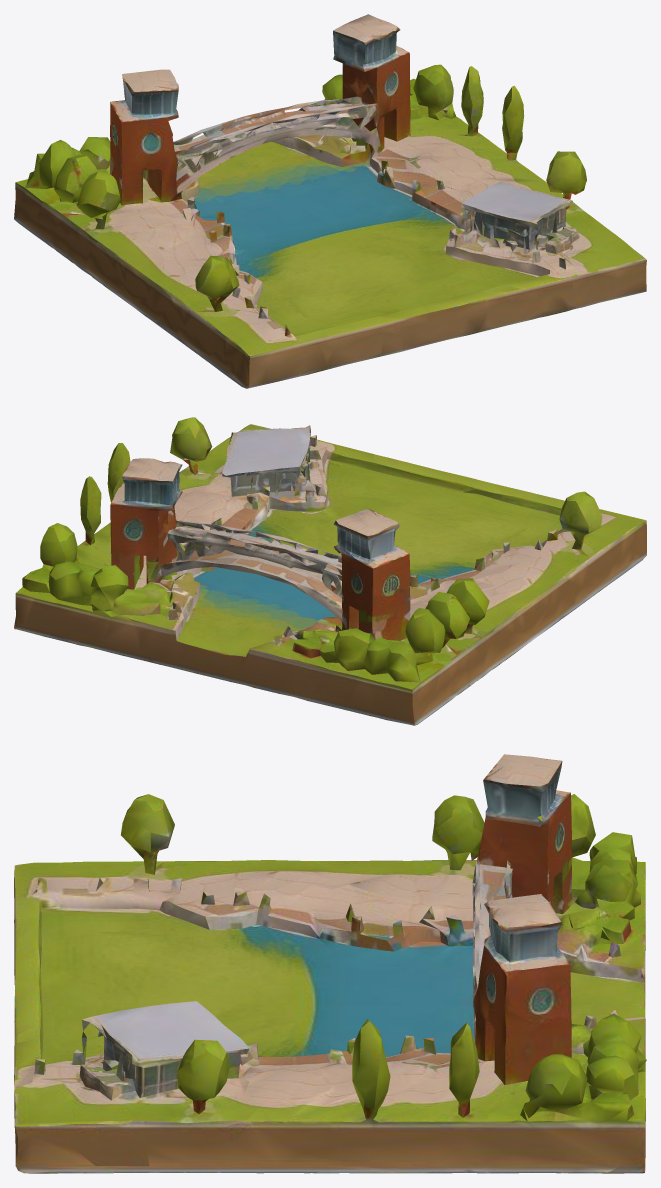
The model's file is kansui-park.glb.
The picture shows the model from 3 angles, top to bottom: view 1: azimuth 30°, elevation 25°; view 2: azimuth 150°, elevation 25°; view 3: azimuth 270°, elevation 25°; orthographic projection. The views are drawn at different scales.
Visible parts, largest first — view 1: logan-textured.obj; view 2: logan-textured.obj; view 3: logan-textured.obj.
Part boxes in pixels (box(x1,y1,x2,y2)): logan-textured.obj: box(14, 14, 646, 388); logan-textured.obj: box(14, 417, 646, 725); logan-textured.obj: box(14, 754, 646, 1173).
Size of the model in its own units: 1 by 0.3521 by 0.9887.
1 material, 1 textured.
